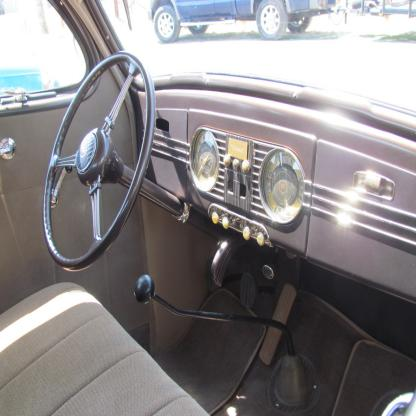Car: (2, 53, 416, 416), (151, 1, 339, 45)
